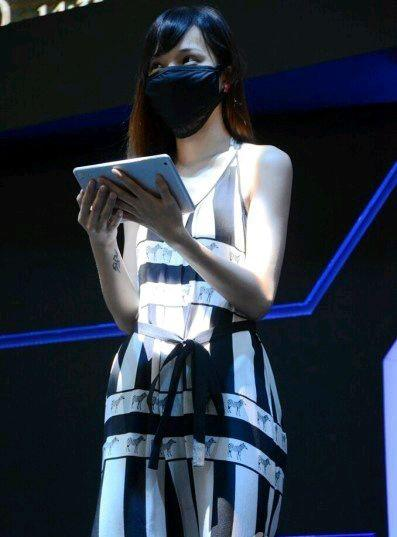OK: (145, 47, 225, 127)
